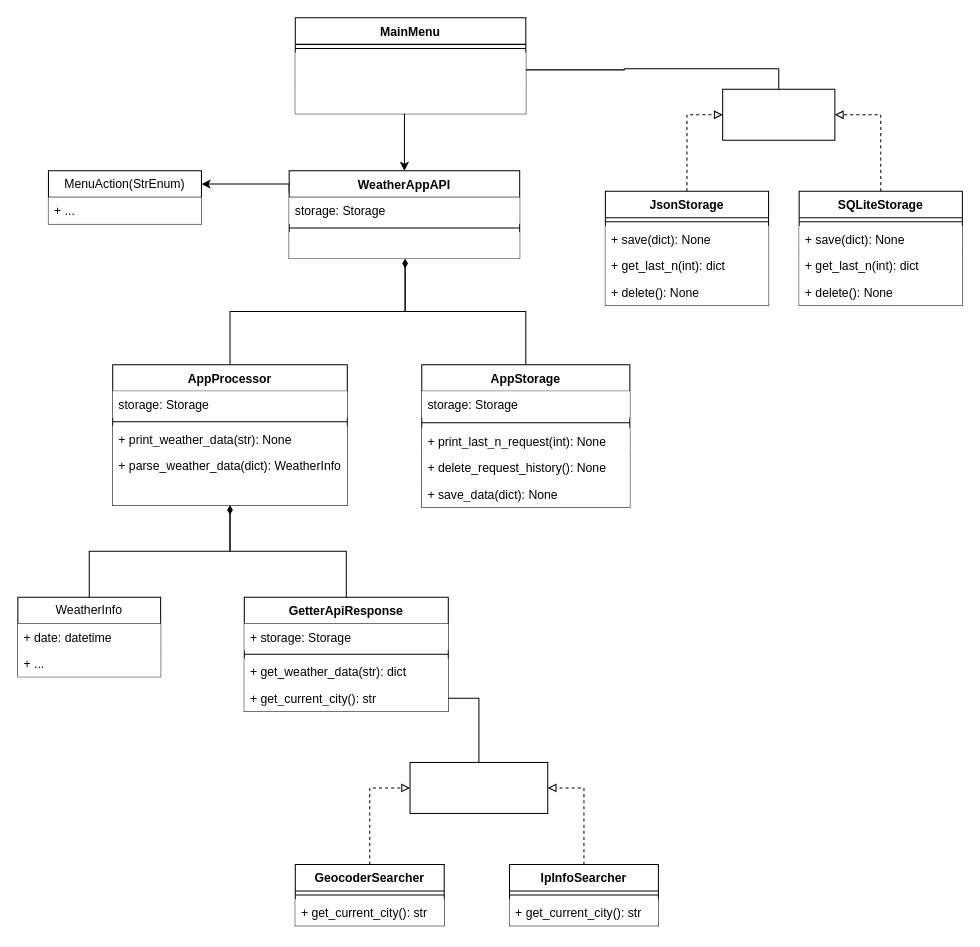
This 980x947 diagram has some shape labels left out. Each missing label, with the centre of its shape:
"+ execute_action(MenuAction): None" goes at [404,245].
"+ get_storage(str): Storage" goes at [410,69].
"+ processing_weather_data(str): type" goes at [229,491].
"+ start(Storage): None" goes at [410,100].
"«interface» CurrentCitySearcher" goes at [478,787].
"«interface» Storage" goes at [778,114].
